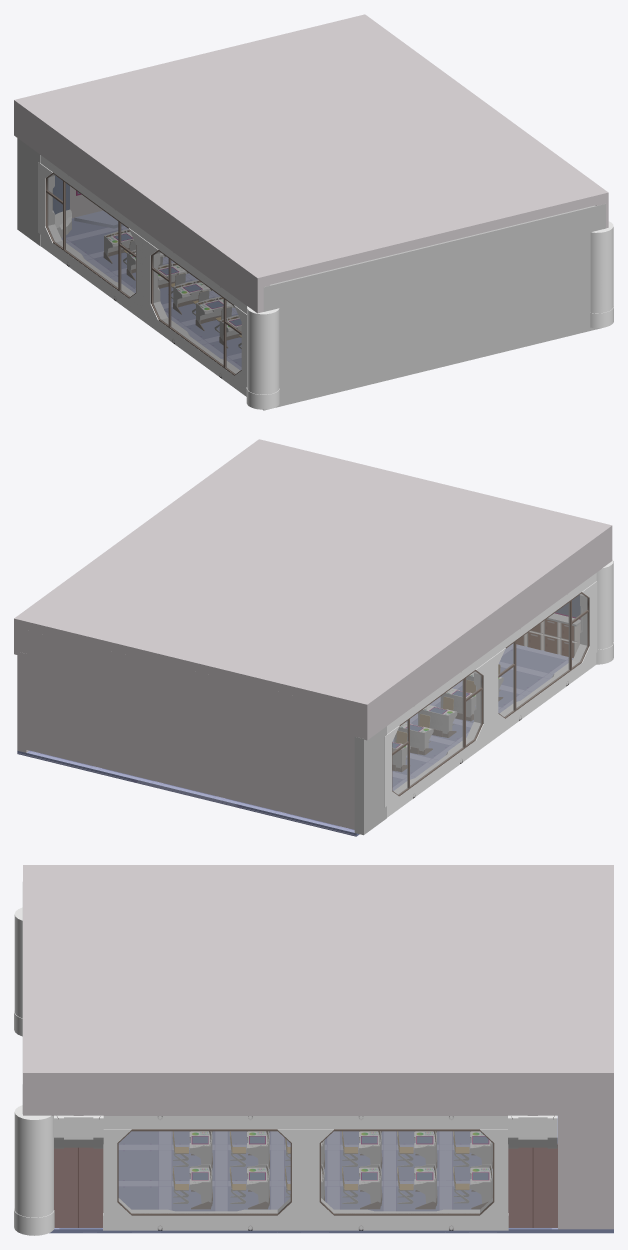
File: anime_classroom.glb
The picture shows the model from 3 angles, top to bottom: view 1: azimuth 30°, elevation 25°; view 2: azimuth 150°, elevation 25°; view 3: azimuth 270°, elevation 25°; orthographic projection. The views are drawn at different scales.
Visible parts, largest first — view 1: pCube82, pCube80, pCube67, pCube66, pCube39 (×2), pCylinder6, pCylinder4, pCube38 (×2), pCube56, pCube41 (×2), pCube36, pCube50 (+4 smaller); view 2: pCube82, pCube2, pCube67, pCube66, pCube39 (×2), pCube56, pCube36, pCube40 (×2), pCube41 (×2), pCylinder6, polySurface15, pCube50 (+6 smaller); view 3: pCube82, pCube70 (×2), pCube50, pCube39 (×2), pCube49, pCube45, pCube41 (×2), pCylinder4, pCube78, pCube81, pCube48 (×2), pCube38 (×2) (+4 smaller).
Part boxes in pixels (x1,y1,x2,y2): pCube82: [14, 14, 608, 313]; pCube80: [263, 204, 605, 410]; pCube67: [152, 251, 241, 374]; pCube66: [47, 174, 135, 297]; pCube39 (×2): [41, 235, 246, 396]; pCylinder6: [246, 306, 279, 409]; pCylinder4: [590, 221, 613, 328]; pCube38 (×2): [38, 162, 167, 320]; pCube56: [17, 138, 40, 246]; pCube41 (×2): [41, 155, 247, 313]; pCube36: [61, 218, 168, 274]; pCube50: [179, 312, 241, 370]; pCube82: [14, 439, 612, 740]; pCube2: [26, 630, 354, 829]; pCube67: [498, 593, 587, 717]; pCube66: [392, 671, 481, 794]; pCube39 (×2): [387, 653, 596, 817]; pCube56: [354, 726, 386, 835]; pCube36: [17, 750, 410, 836]; pCube40 (×2): [467, 581, 597, 740]; pCube41 (×2): [387, 573, 596, 734]; pCylinder6: [581, 559, 613, 664]; polySurface15: [516, 619, 580, 657]; pCube50: [430, 664, 551, 724]; pCube82: [23, 865, 613, 1115]; pCube70 (×2): [118, 1131, 492, 1213]; pCube50: [109, 1131, 277, 1233]; pCube39 (×2): [103, 1210, 508, 1230]; pCube49: [277, 1131, 445, 1233]; pCube45: [558, 1116, 613, 1229]; pCube41 (×2): [103, 1116, 507, 1129]; pCylinder4: [14, 1105, 54, 1235]; pCube78: [508, 1144, 557, 1227]; pCube81: [54, 1147, 103, 1227]; pCube48 (×2): [54, 1115, 557, 1148]; pCube38 (×2): [103, 1129, 508, 1215].
Size of the model in its own units: 12.67 by 4.46 by 14.95.
Materials: 19 (9 with a texture image).
